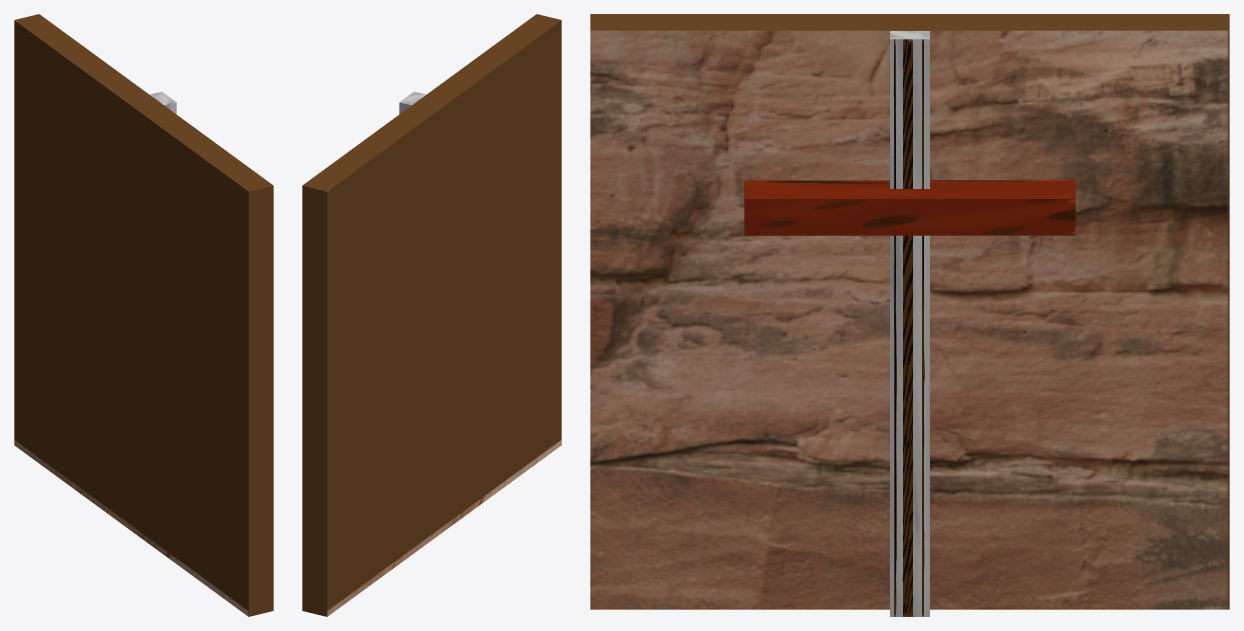
Rendered from lever.dae.
The picture shows the model from 3 angles, left to right: view 1: azimuth 30°, elevation 25°; view 2: azimuth 150°, elevation 25°; view 3: azimuth 270°, elevation 25°; orthographic projection. The views are drawn at different scales.
Visible parts, largest first — view 1: Cube; view 2: Cube; view 3: Cube, Cube.002, Cube.001.
Part boxes in pixels (x1=…): Cube: x1=14, y1=14, x2=273, y2=616; Cube: x1=302, y1=14, x2=561, y2=616; Cube: x1=590, y1=14, x2=1229, y2=609; Cube.002: x1=890, y1=31, x2=929, y2=616; Cube.001: x1=744, y1=180, x2=1075, y2=235.
Bounding box in the file's own units: 0.5044 × 3.86 × 3.86.
3 materials, 3 textured.
